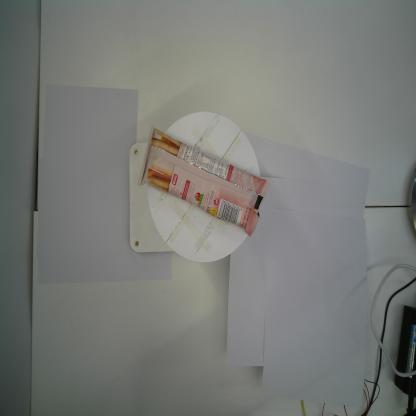Dessert: (137, 124, 271, 241)
